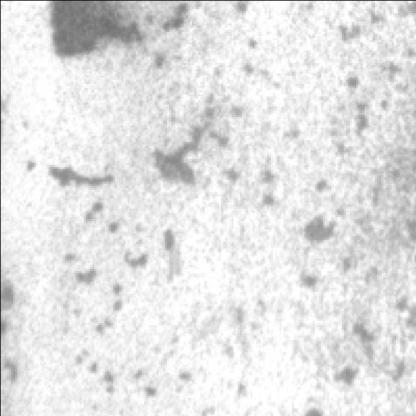patches: (39, 2, 150, 62)
pitted_surface: (14, 83, 229, 406)
